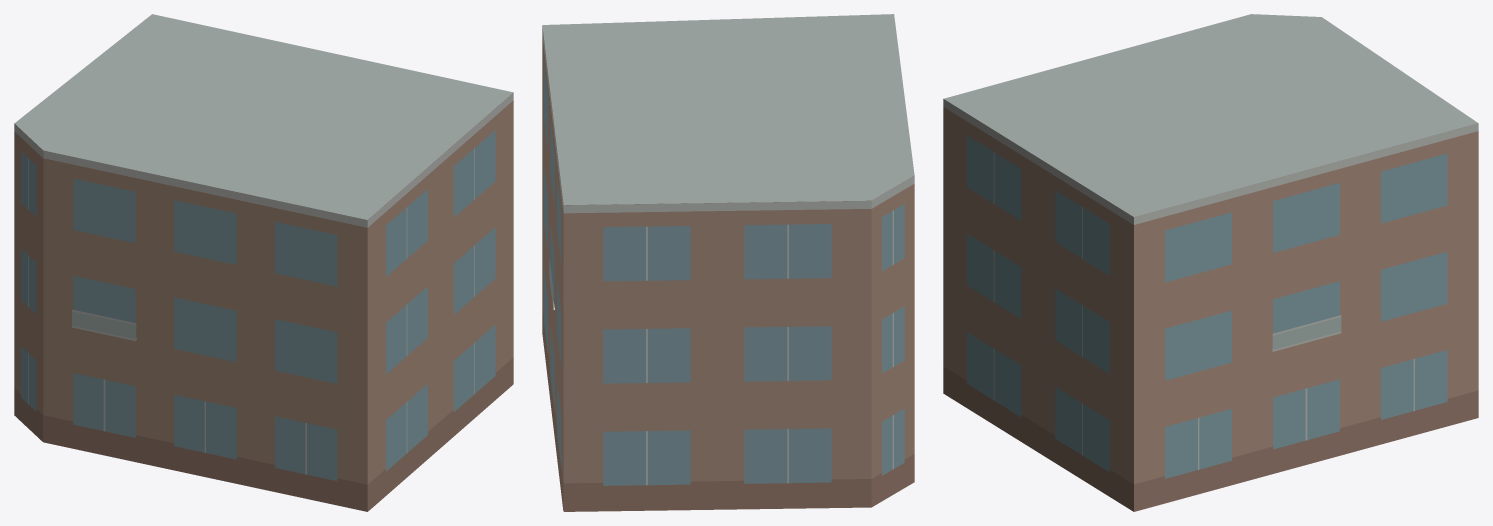
The model's file is survey-upis-32692290.glb.
3 renders of one model, left to right at view 1: azimuth 30°, elevation 25°; view 2: azimuth 150°, elevation 25°; view 3: azimuth 270°, elevation 25°, orthographic. The views are drawn at different scales.
Parts seen in each view (by area): view 1: survey-upis-32692290.tmp; view 2: survey-upis-32692290.tmp; view 3: survey-upis-32692290.tmp.
Boxes of the visible parts, x1,y1,x2,y2 form: survey-upis-32692290.tmp: (14,14,513,511); survey-upis-32692290.tmp: (542,14,914,511); survey-upis-32692290.tmp: (943,14,1478,511).
Size of the model in its own units: 13.54 by 9.15 by 15.07.
